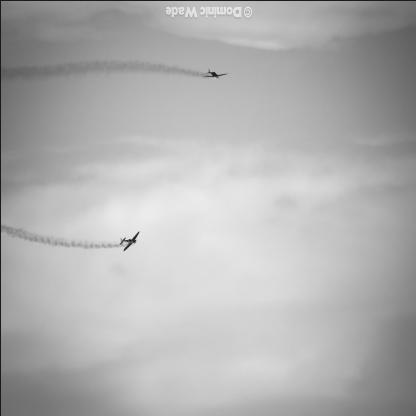aircraft: (120, 231, 140, 251), (203, 69, 227, 79)
